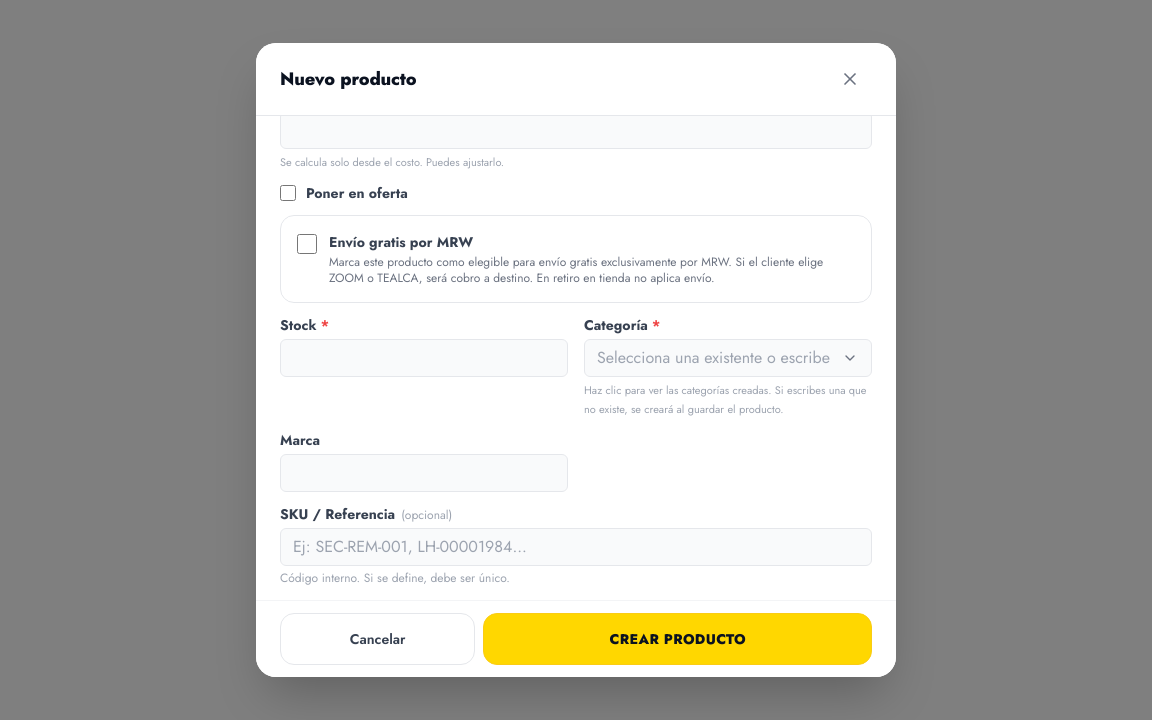
Test: AddProductModal — categoría › permite escribir una nueva y muestra Se creará la categoría
The width and height of the screenshot is (1152, 720).
(page scrolled)
Type "Cuidado personal" into the dropdown labelled "Categoría *" at (728, 358), box [584,339,872,377]
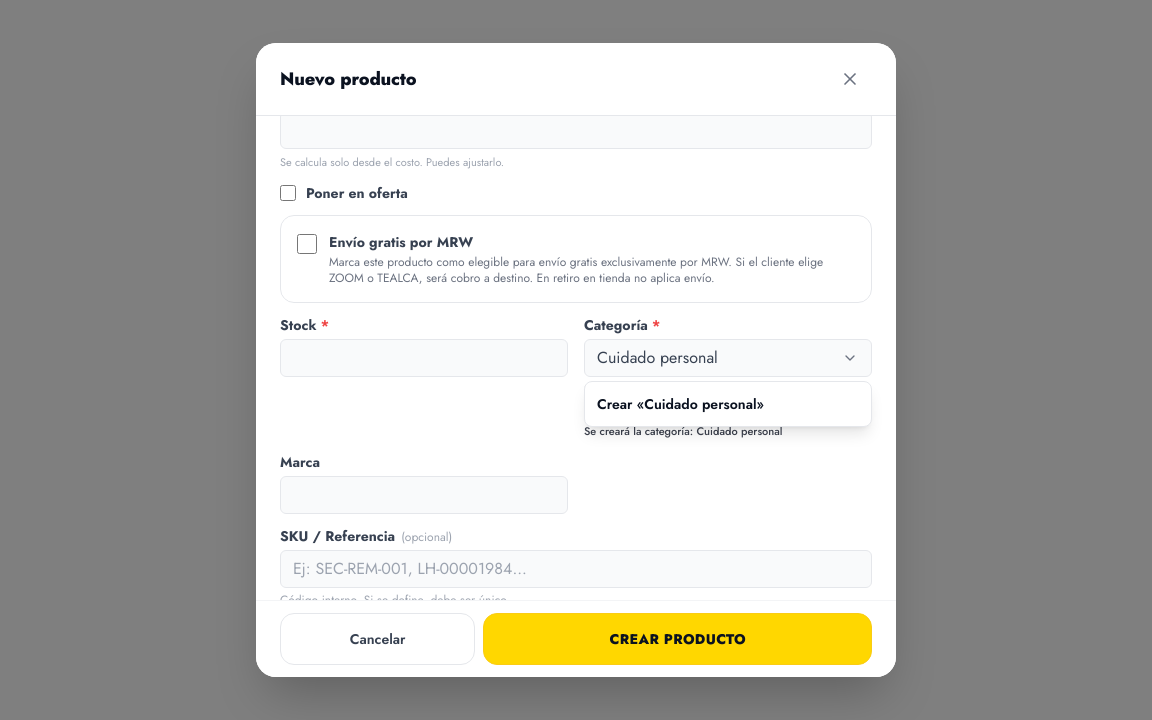
Result: the text with test id "category-will-create" reads "Se creará la categoría: Cuidado personal" at [584,423,782,439]
